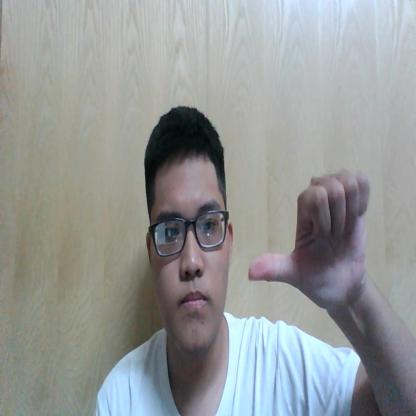right: (249, 166, 374, 314)
